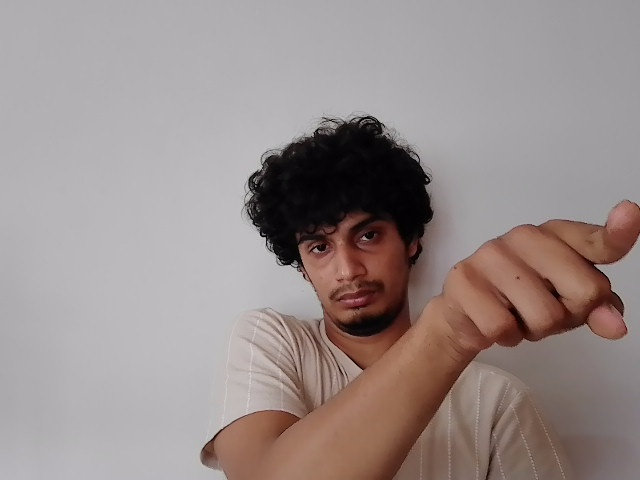you: (428, 198, 640, 366)
